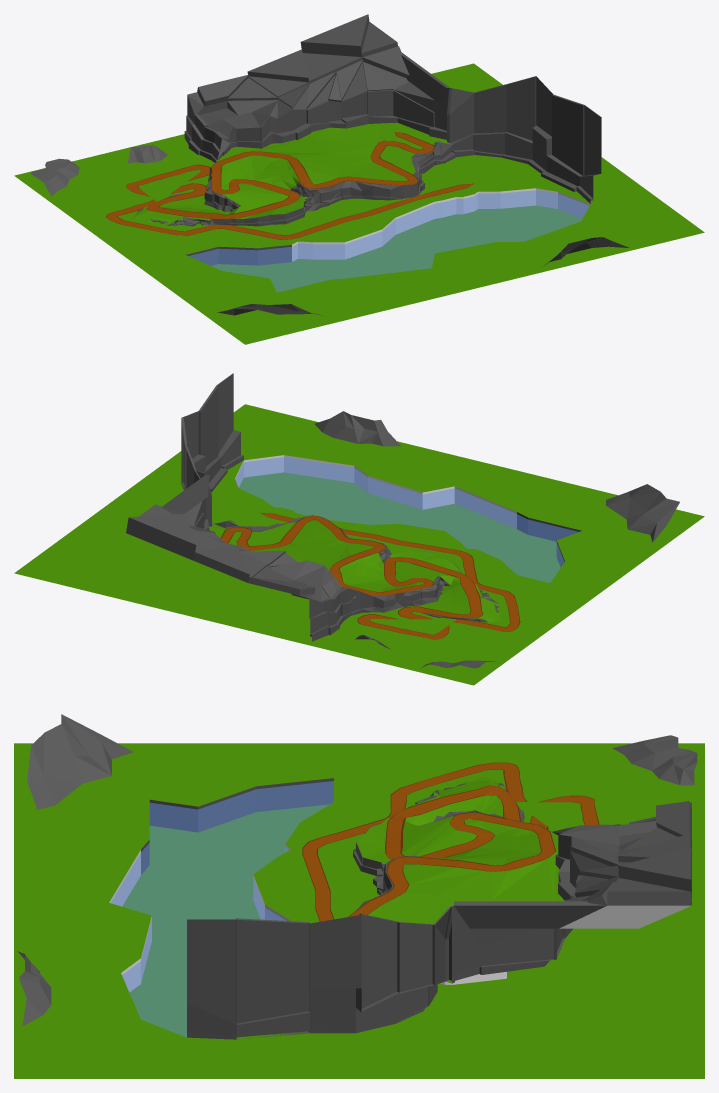
Rendered from Leg1.fbx.
3 views of the same model, one above another, from view 1: azimuth 30°, elevation 25°; view 2: azimuth 150°, elevation 25°; view 3: azimuth 270°, elevation 25° (orthographic). The views are drawn at different scales.
Visible parts, largest first — view 1: Model; view 2: Model; view 3: Model.
Part boxes in pixels (bbox=[...]): Model: bbox=[14, 14, 704, 344]; Model: bbox=[14, 373, 704, 685]; Model: bbox=[14, 714, 704, 1078].
Bounding box in the file's own units: 1852 × 391 × 1612.
